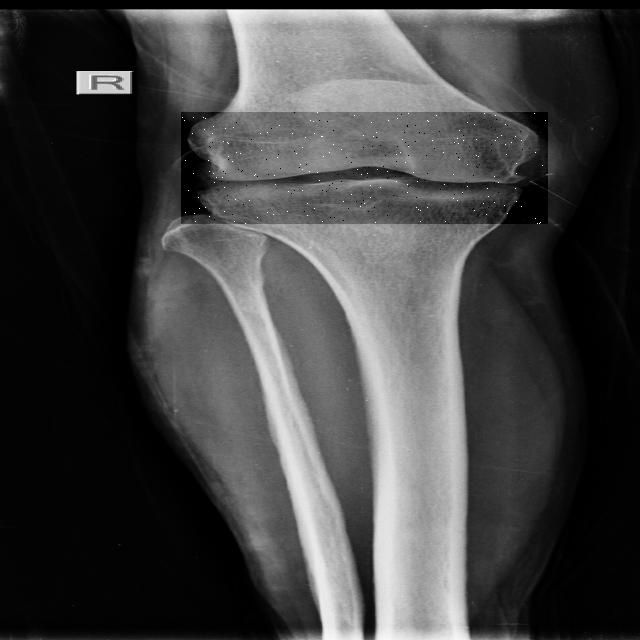normal: (181, 112, 548, 224)
